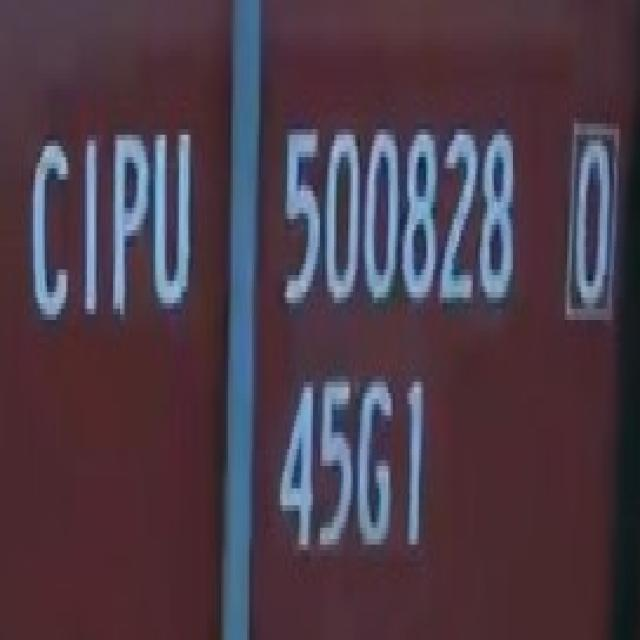dv: (553, 105, 626, 328)
owner: (24, 121, 201, 346)
serial: (271, 125, 524, 332)
size: (271, 358, 434, 580)
